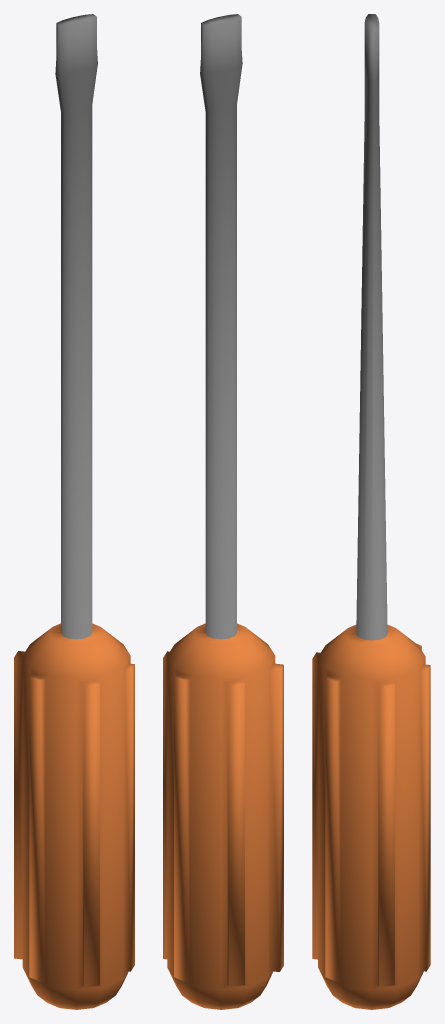
File: Skrewdriver.fbx
The picture shows the model from 3 angles, left to right: view 1: azimuth 30°, elevation 25°; view 2: azimuth 210°, elevation 25°; view 3: azimuth 270°, elevation 25°; orthographic projection.
Visible parts, largest first — view 1: Skrewdriver; view 2: Skrewdriver; view 3: Skrewdriver.
Boxes of the visible parts, x1,y1,x2,y2 form: Skrewdriver: (14,14,134,1009); Skrewdriver: (163,14,283,1009); Skrewdriver: (312,14,430,1009).
Size of the model in its own units: 2.95 by 26.89 by 2.97.
